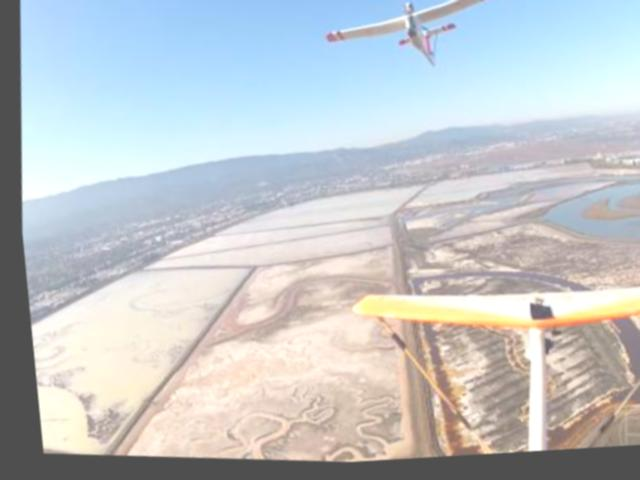uav: (309, 0, 514, 92)
